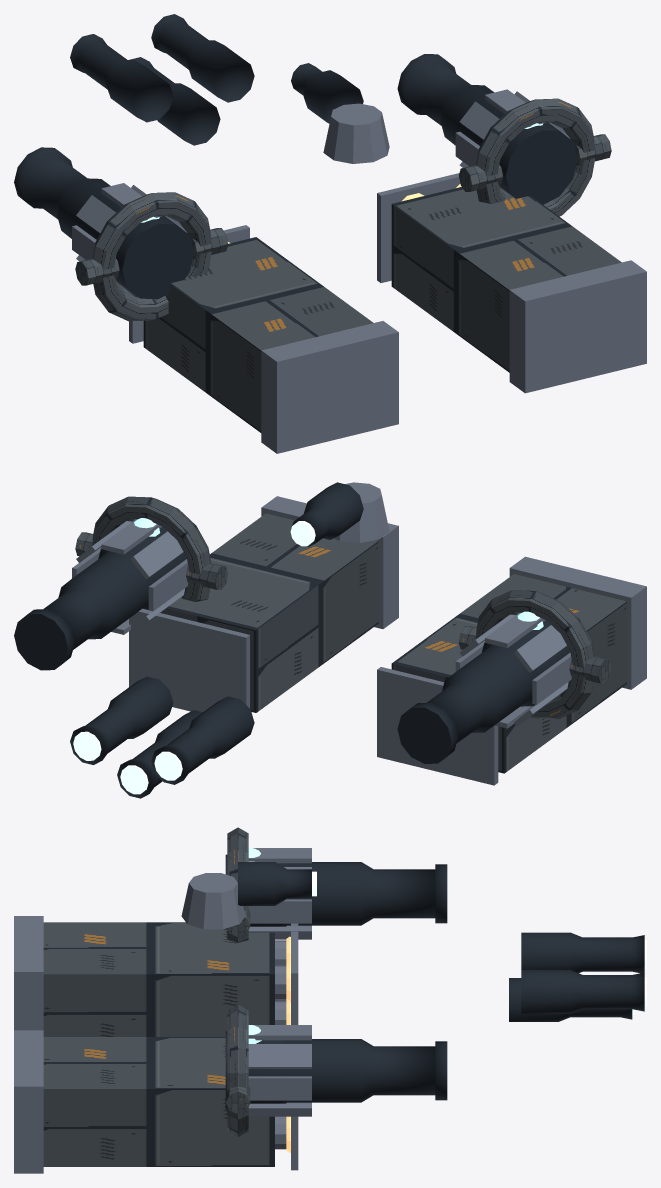
Rendered from weapons_rig.glb.
3 views of the same model, one above another, from view 1: azimuth 30°, elevation 25°; view 2: azimuth 150°, elevation 25°; view 3: azimuth 270°, elevation 25° (orthographic). The views are drawn at different scales.
Parts seen in each view (by area): view 1: pod_R_housing, pod_L_housing, pod_L_cap, pod_R_cap, barrel_L_mesh, barrel_R_mesh, laser_housings, yoke_L, yoke_R, RailBase, CenterHousing, RailBarrel (+2 smaller); view 2: pod_R_housing, barrel_L_mesh, barrel_R_mesh, pod_L_housing, pod_R_door, laser_housings, pod_L_door, yoke_L, yoke_R, pod_L_cap, pod_R_cap, RailBarrel (+5 smaller); view 3: pod_R_housing, pod_L_housing, barrel_R_mesh, barrel_L_mesh, laser_housings, pod_R_cap, pod_L_cap, RailBase, yoke_R, RailBarrel, CenterHousing, yoke_L (+2 smaller).
Boxes of the visible parts, x1,y1,x2,y2 form: pod_R_housing: (391, 187, 621, 372); pod_L_housing: (143, 237, 373, 432); pod_L_cap: (261, 321, 398, 453); pod_R_cap: (509, 260, 646, 393); barrel_L_mesh: (14, 147, 194, 299); barrel_R_mesh: (397, 54, 577, 204); laser_housings: (70, 14, 254, 122); yoke_L: (75, 192, 227, 321); yoke_R: (459, 98, 611, 216); RailBase: (323, 103, 389, 163); CenterHousing: (129, 57, 220, 145); RailBarrel: (291, 63, 363, 123); pod_R_housing: (161, 513, 378, 712); barrel_L_mesh: (397, 612, 571, 763); barrel_R_mesh: (14, 519, 188, 670); pod_L_housing: (391, 574, 626, 773); pod_R_door: (129, 608, 249, 711); laser_housings: (70, 676, 254, 784); pod_L_door: (377, 667, 498, 785); yoke_L: (459, 590, 611, 719); yoke_R: (75, 496, 227, 601); pod_L_cap: (509, 556, 646, 689); pod_R_cap: (261, 496, 398, 628); RailBarrel: (291, 482, 363, 546); pod_R_housing: (43, 1037, 274, 1166); pod_L_housing: (43, 922, 274, 1036); barrel_R_mesh: (225, 1025, 447, 1116); barrel_L_mesh: (225, 848, 447, 939); laser_housings: (521, 932, 644, 1013); pod_R_cap: (14, 1030, 43, 1173); pod_L_cap: (14, 916, 43, 1030); RailBase: (181, 873, 245, 929); yoke_R: (225, 1004, 250, 1136); RailBarrel: (238, 862, 311, 905); CenterHousing: (509, 978, 632, 1021); yoke_L: (227, 827, 250, 942).
Size of the model in its own units: 2.32 by 1 by 2.57.
6 materials, 1 textured.
